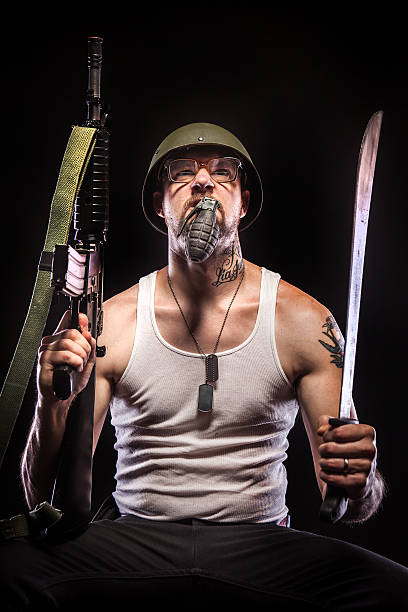e1: (177, 197, 230, 260)
